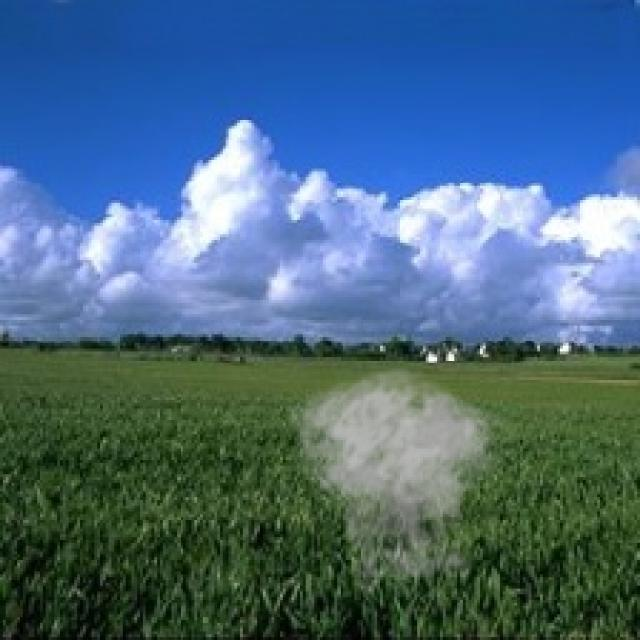Smoke: (286, 366, 514, 598)
